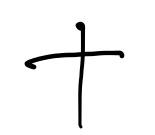plus: (24, 21, 125, 129)
